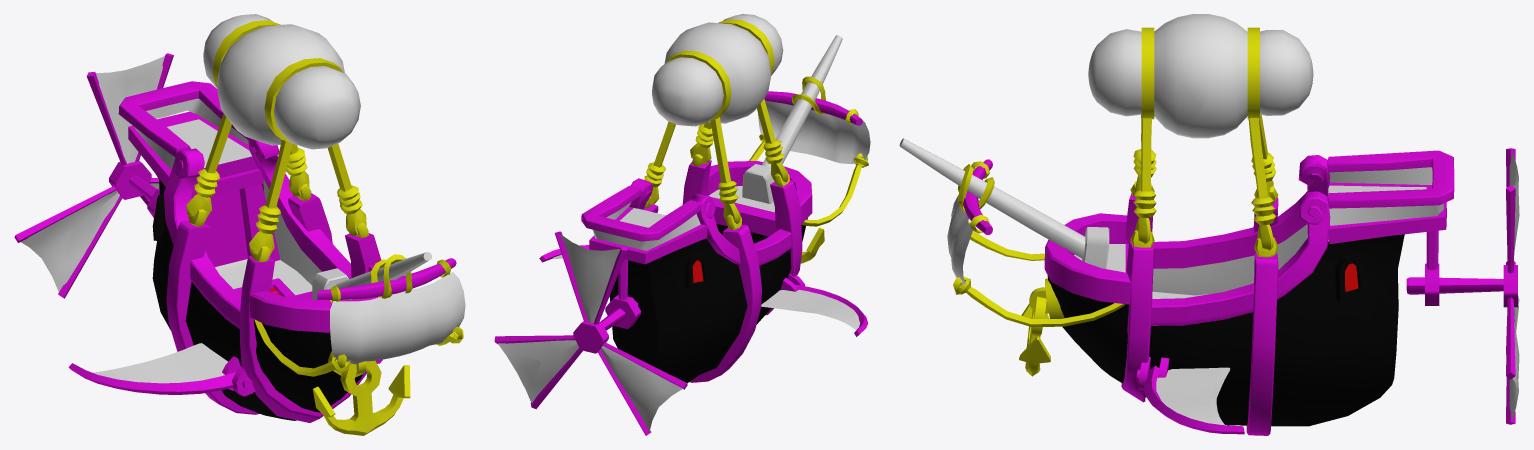
Rendered from Pudge.fbx.
The picture shows the model from 3 angles, left to right: view 1: azimuth 30°, elevation 25°; view 2: azimuth 150°, elevation 25°; view 3: azimuth 270°, elevation 25°; orthographic projection. The views are drawn at different scales.
Parts seen in each view (by area): view 1: Pudge, Pudge_fan, Pudge_Sail, Pudge_Fin_R; view 2: Pudge, Pudge_fan, Pudge_Sail, Pudge_Fin_R; view 3: Pudge, Pudge_Fin_L, Pudge_fan, Pudge_Sail.
Boxes of the visible parts, box(x1,y1,x2,y2) form: Pudge: box(118, 14, 463, 435); Pudge_fan: box(14, 53, 173, 298); Pudge_Sail: box(330, 272, 465, 364); Pudge_Fin_R: box(68, 343, 235, 394); Pudge: box(581, 14, 868, 383); Pudge_fan: box(494, 231, 687, 435); Pudge_Sail: box(758, 100, 870, 163); Pudge_Fin_R: box(761, 284, 867, 336); Pudge: box(899, 14, 1503, 435); Pudge_Fin_L: box(1144, 365, 1244, 434); Pudge_fan: box(1503, 148, 1519, 424); Pudge_Sail: box(947, 195, 972, 284).
Bounding box in the file's own units: 400 × 545 × 398.
